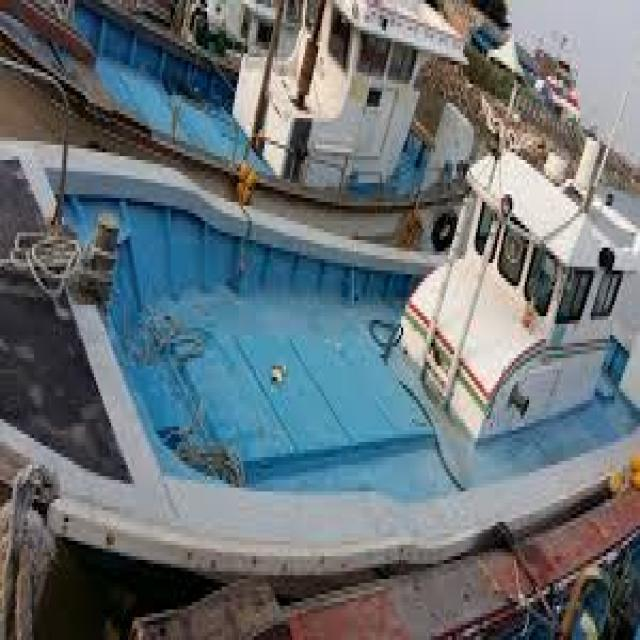Ship: (1, 100, 640, 588)
